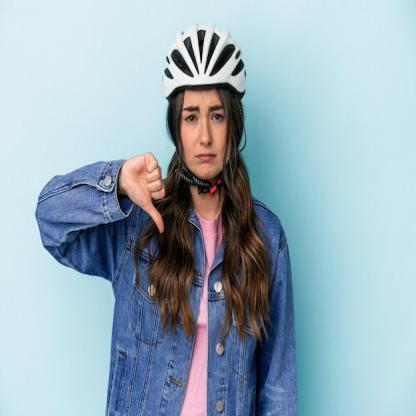thumb_down: (124, 148, 167, 236)
